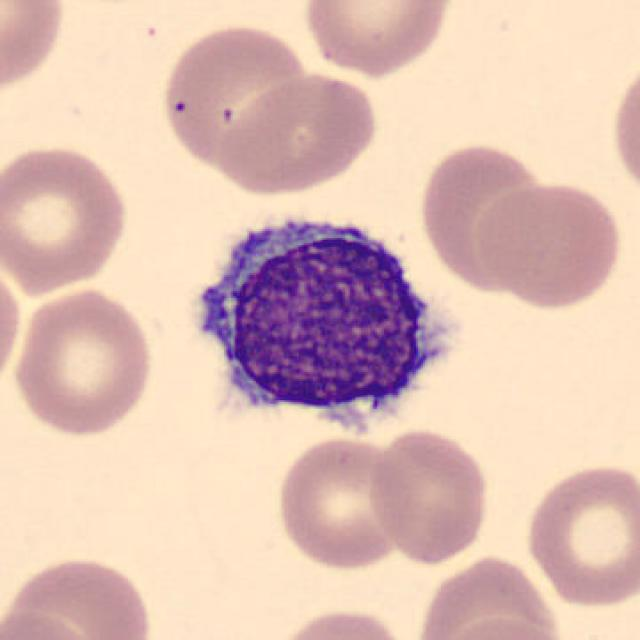Lymphocyte: (174, 199, 471, 452)
RBC: (157, 19, 311, 178), (9, 284, 158, 439), (414, 138, 555, 294), (471, 176, 626, 312), (0, 139, 133, 296), (217, 70, 380, 198), (272, 434, 412, 573), (521, 458, 638, 610), (367, 425, 492, 566), (4, 550, 158, 640), (413, 552, 567, 640), (298, 0, 458, 79), (0, 0, 69, 100), (266, 604, 416, 640), (606, 54, 640, 204), (435, 613, 572, 640), (0, 604, 99, 640), (0, 256, 25, 395)
